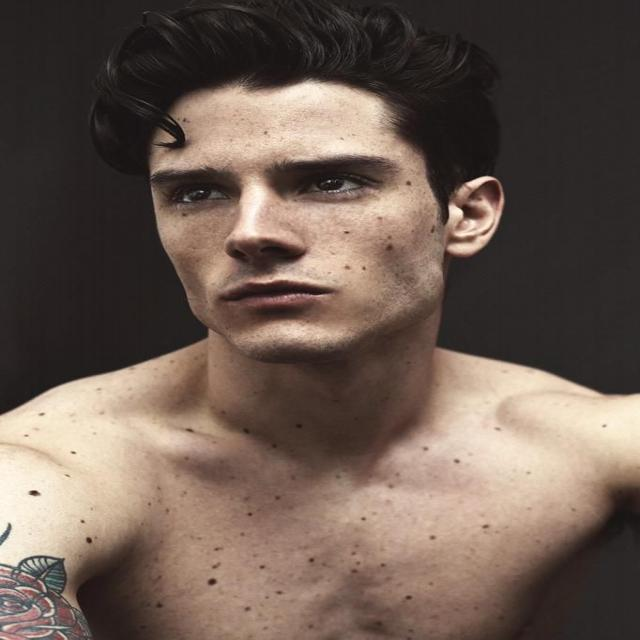earlobe: (447, 232, 476, 260)
eye: (298, 175, 364, 192), (172, 184, 228, 203)
nose: (222, 244, 297, 275)
wholeear: (447, 176, 504, 259)
